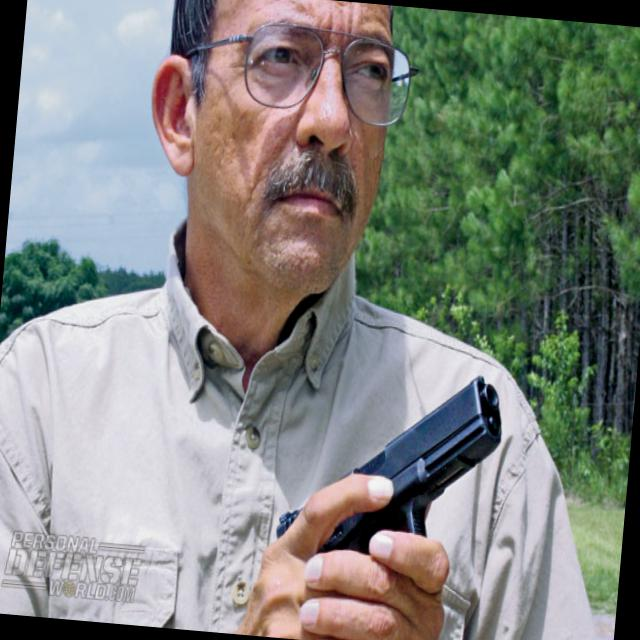handgun: (303, 359, 504, 582)
